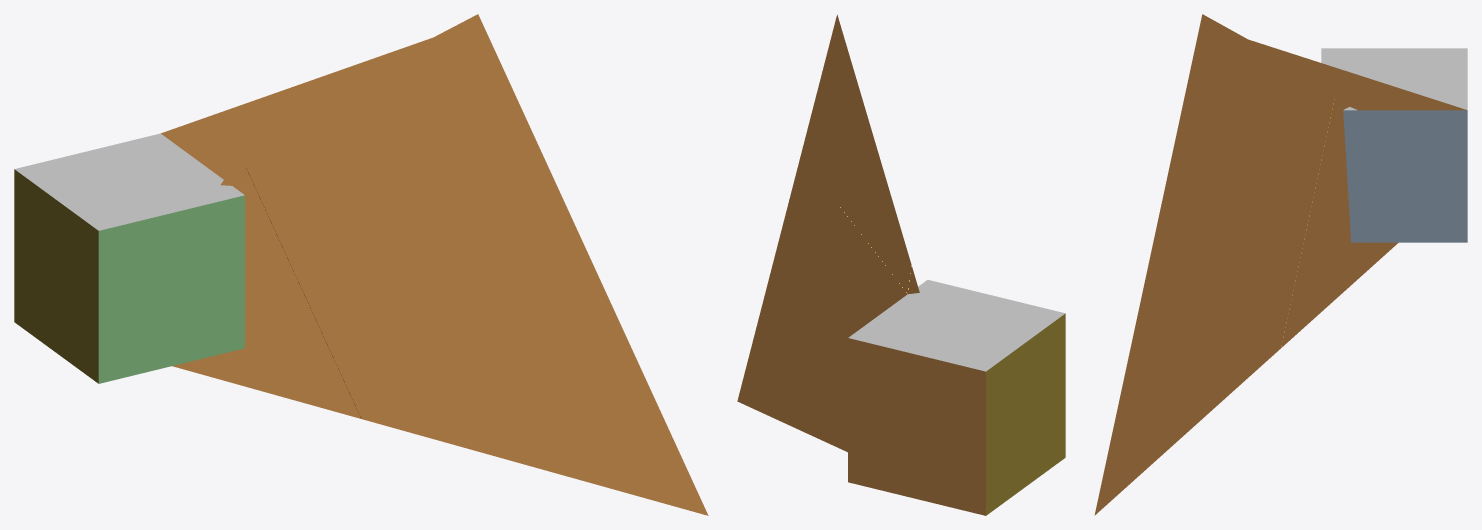
Rendered from 6_texture_box.obj.
The picture shows the model from 3 angles, left to right: view 1: azimuth 30°, elevation 25°; view 2: azimuth 150°, elevation 25°; view 3: azimuth 270°, elevation 25°; orthographic projection. The views are drawn at different scales.
Parts seen in each view (by area): view 1: Box01; view 2: Box01; view 3: Box01.
Part boxes in pixels (bbox=[...]): Box01: bbox=[14, 14, 708, 515]; Box01: bbox=[737, 14, 1065, 515]; Box01: bbox=[1094, 14, 1467, 515].
Bounding box in the file's own units: 262 × 260 × 204.
